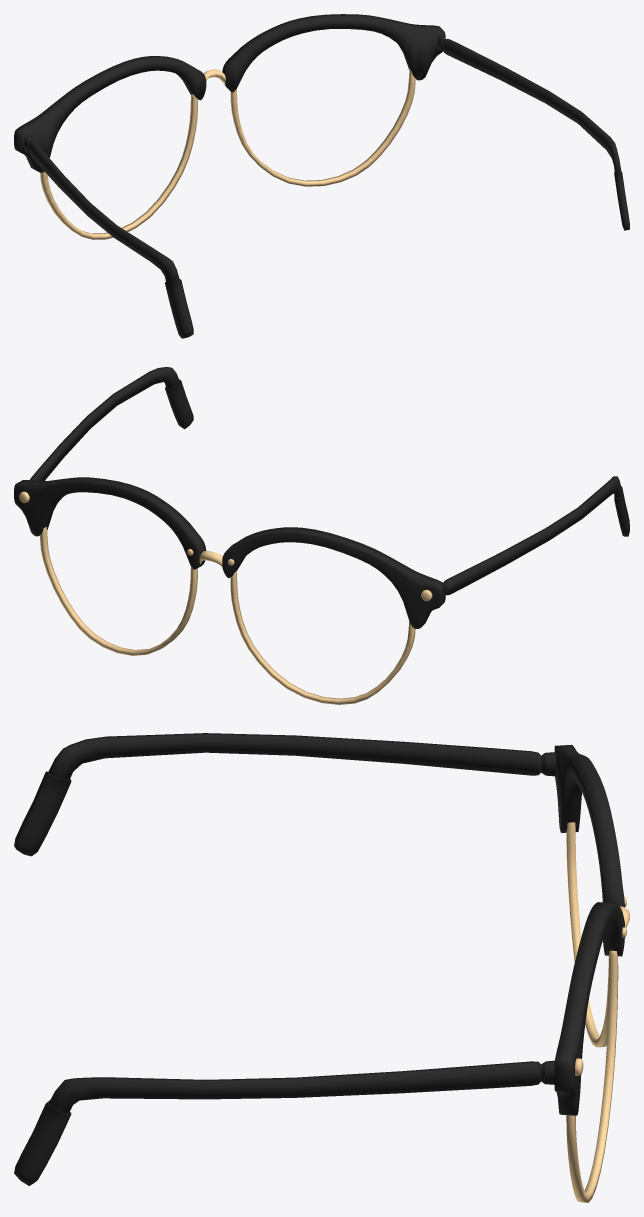
The picture shows the model from 3 angles, top to bottom: view 1: azimuth 30°, elevation 25°; view 2: azimuth 150°, elevation 25°; view 3: azimuth 270°, elevation 25°; orthographic projection. The views are drawn at different scales.
Visible parts, largest first — view 1: geometry_0; view 2: geometry_0; view 3: geometry_0.
Boxes of the visible parts, left/top/right/bottom form: geometry_0: left=14, top=14, right=629, bottom=338; geometry_0: left=14, top=367, right=629, bottom=704; geometry_0: left=14, top=733, right=629, bottom=1202.
Size of the model in its own units: 1.22 by 0.4174 by 0.9053.
1 material, 1 textured.
